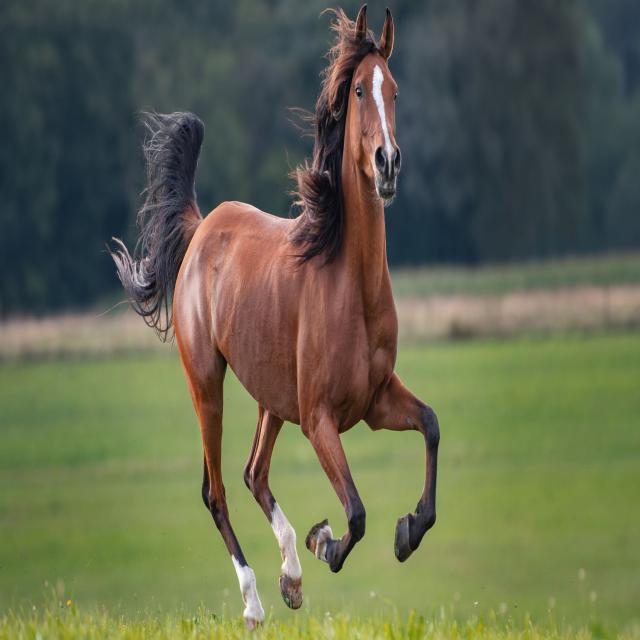Horse: (123, 4, 445, 598)
